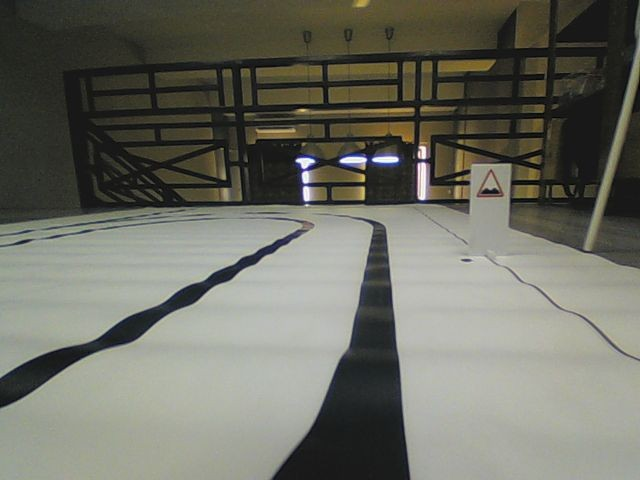Nerov: (474, 166, 504, 199)
